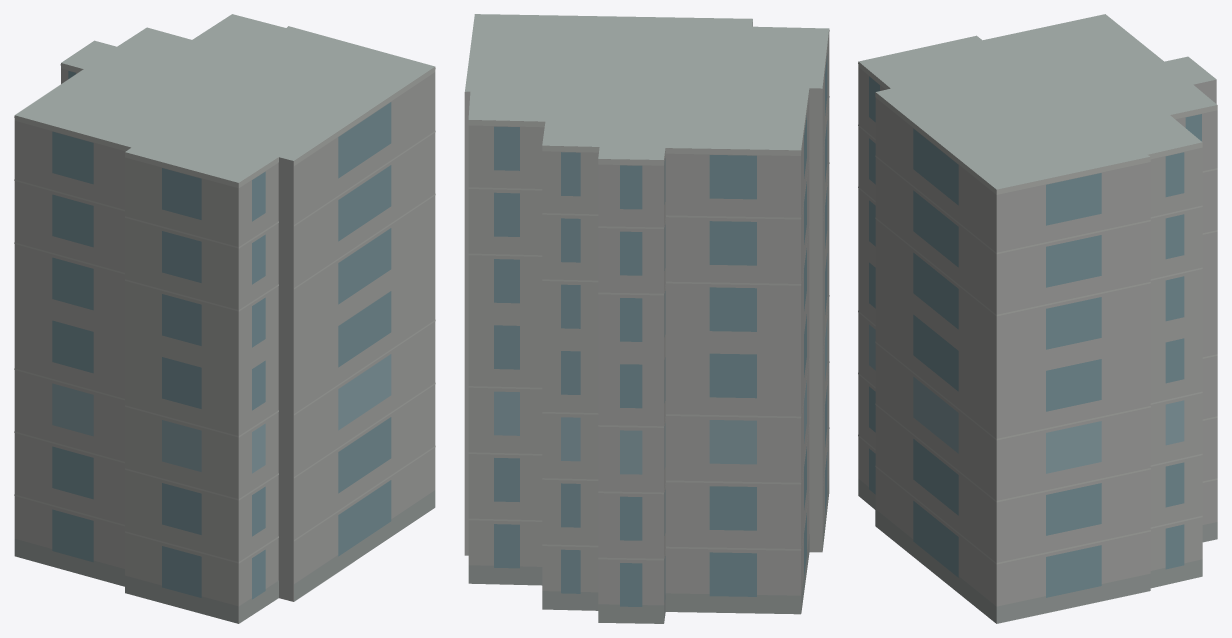
The model's file is survey-upis-33019971.glb.
3 renders of one model, left to right at view 1: azimuth 30°, elevation 25°; view 2: azimuth 150°, elevation 25°; view 3: azimuth 270°, elevation 25°, orthographic. The views are drawn at different scales.
Visible parts, largest first — view 1: survey-upis-33019971.tmp; view 2: survey-upis-33019971.tmp; view 3: survey-upis-33019971.tmp.
Boxes of the visible parts, x1,y1,x2,y2 form: survey-upis-33019971.tmp: (14, 14, 435, 623); survey-upis-33019971.tmp: (464, 14, 829, 623); survey-upis-33019971.tmp: (858, 14, 1217, 623).
Size of the model in its own units: 17.37 by 20 by 15.01.
